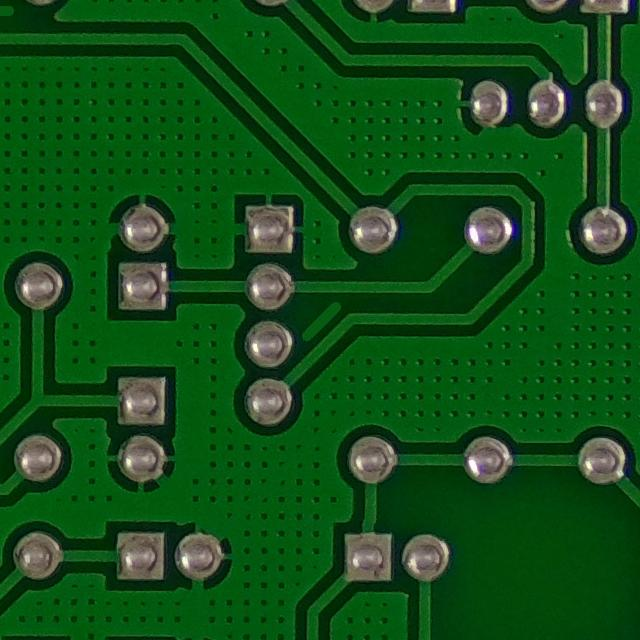spurious_copper: (288, 297, 352, 344)
